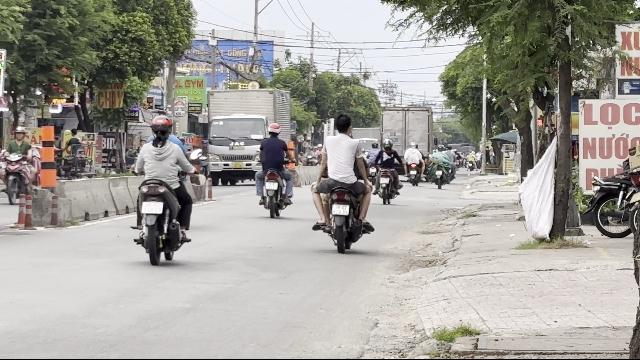helmet: (148, 116, 172, 140)
licenseplate: (141, 201, 163, 214), (332, 204, 348, 216)
motorcyclist: (128, 115, 196, 264), (310, 113, 374, 251)
nohelmet: (332, 114, 352, 134)
